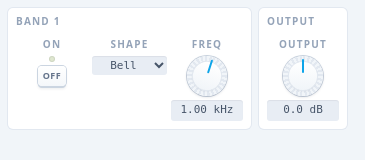
Test: a built-in effect’s generated panel › takes a typed value
Replace the text in the field named "Band 1 Freq value" with "2.5k". click: (207, 110)
box: [171,100,243,120]
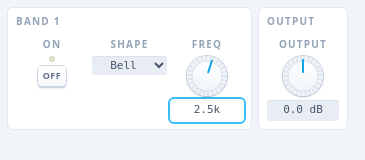
Leave the field named "Band 1 Freq value", box [171,100,243,120]
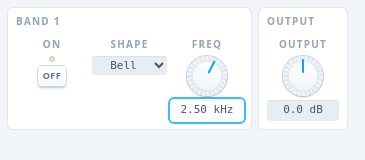
Now the field named "Band 1 Freq value" holds "2.50 kHz", box [171,100,243,120]
